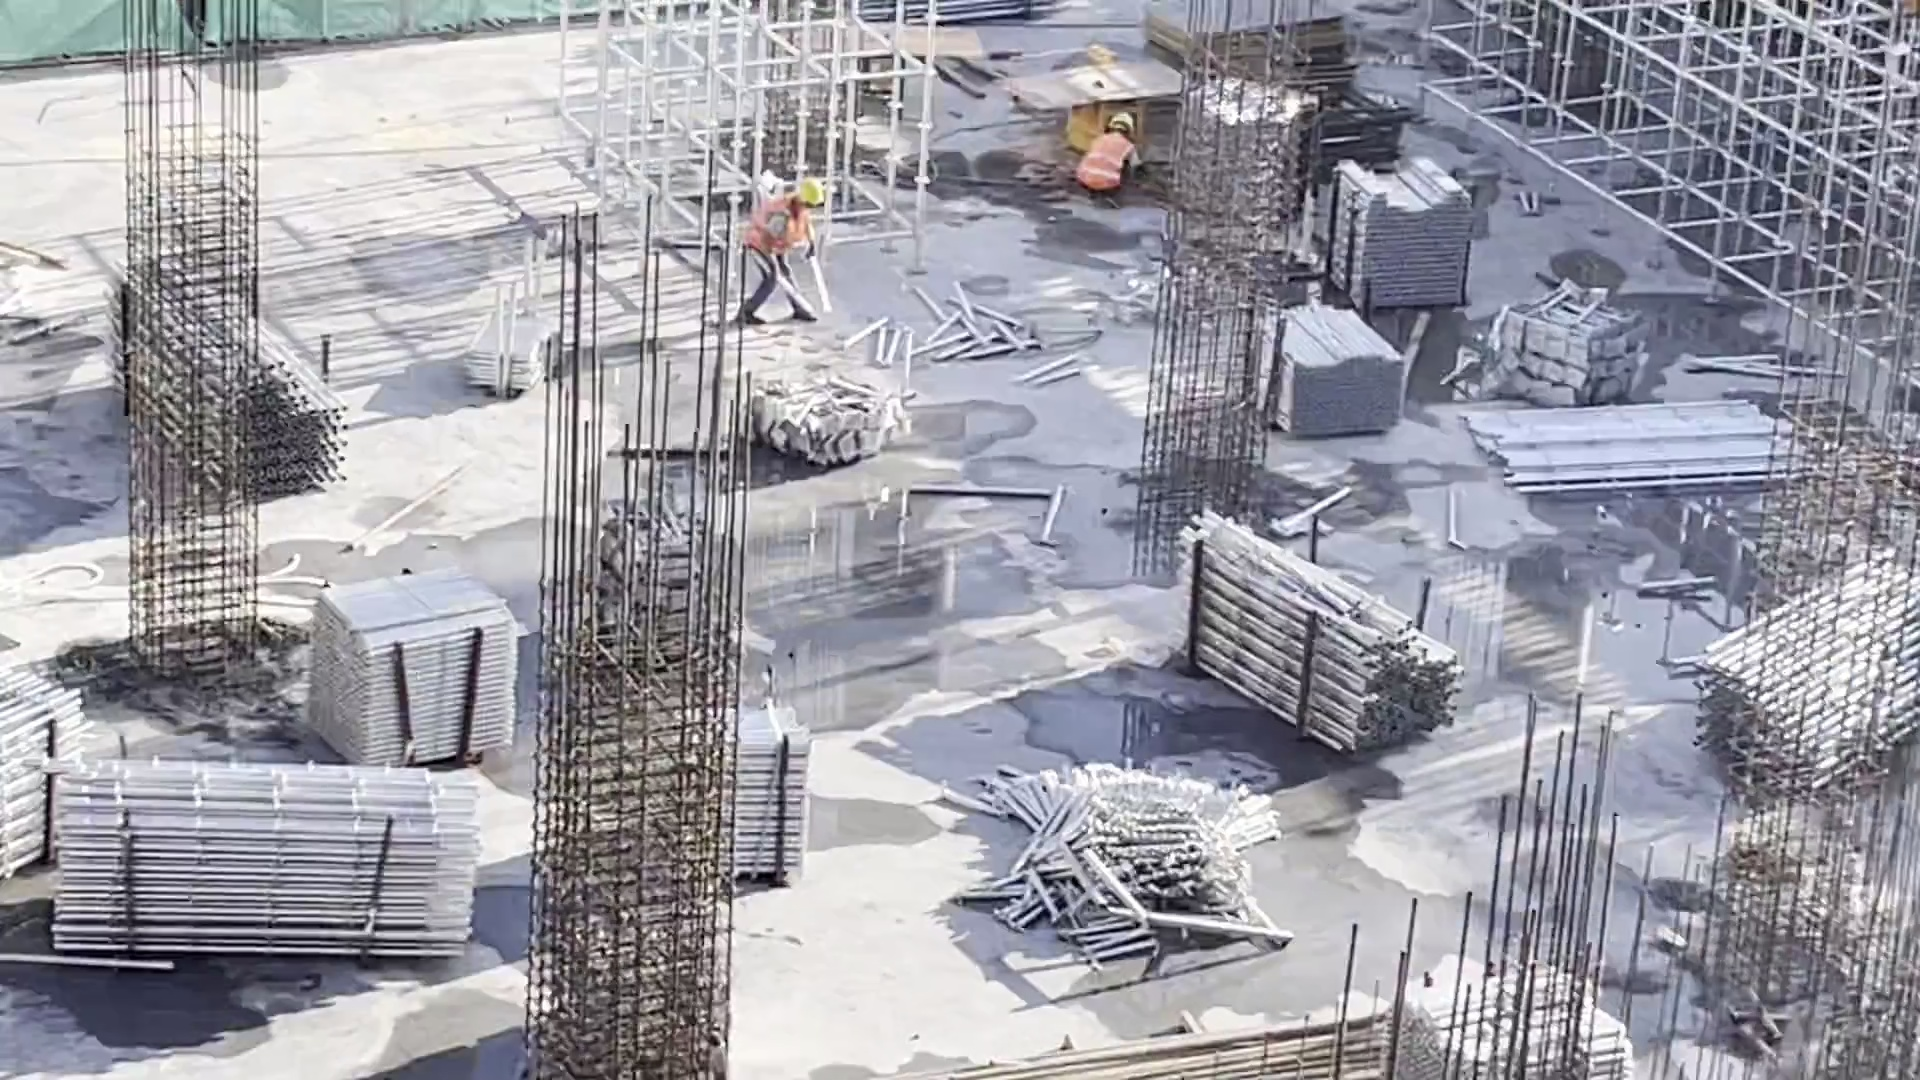cutter: (1010, 67, 1183, 145), (806, 29, 964, 103)
helmet: (796, 181, 826, 210), (1104, 112, 1130, 131)
person: (726, 178, 830, 335), (1059, 112, 1141, 217)
scaffold: (43, 776, 487, 960), (1168, 517, 1454, 742), (1000, 767, 1260, 965), (97, 285, 332, 497), (1696, 595, 1920, 801), (1462, 403, 1812, 497), (328, 599, 496, 749), (1380, 985, 1602, 1080), (1176, 92, 1337, 223), (1259, 299, 1400, 435), (1, 684, 93, 842), (1351, 168, 1469, 287), (733, 737, 796, 891), (467, 314, 553, 399)
vest: (742, 198, 805, 257), (1076, 140, 1133, 190)
